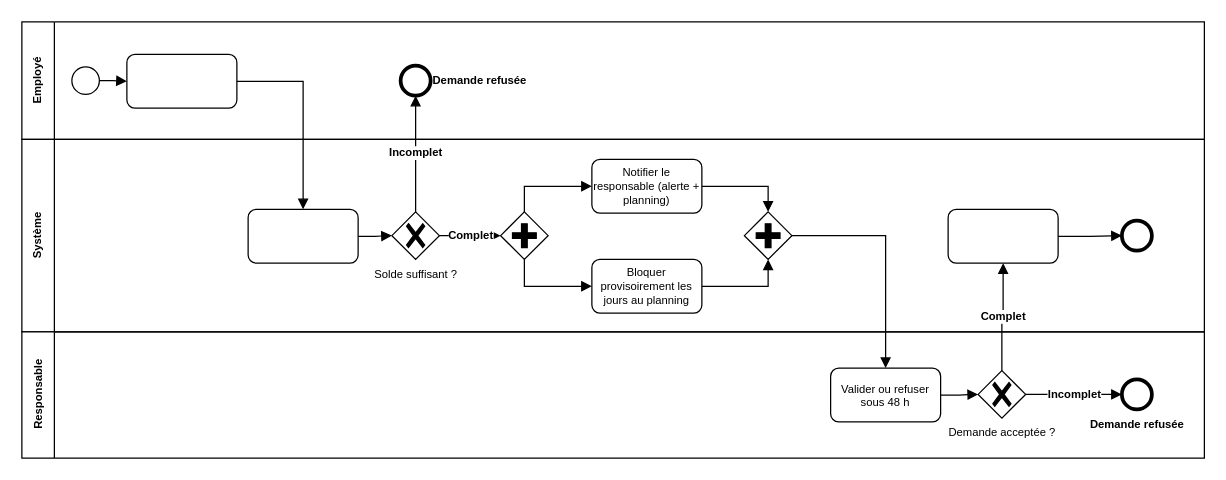
Image size: 1226x480. Some labels were removed from this diagram. Each missing label, with the centre of its shape:
Besoin de congé: the point at 85,80
Congé accordé: the point at 1136,235
Mettre à jour solde et planning, notifier l'employé et les RH: the point at 1002,235
Saisir la demande en ligne: the point at 181,80
Vérifier automatiquement le solde: the point at 302,235
